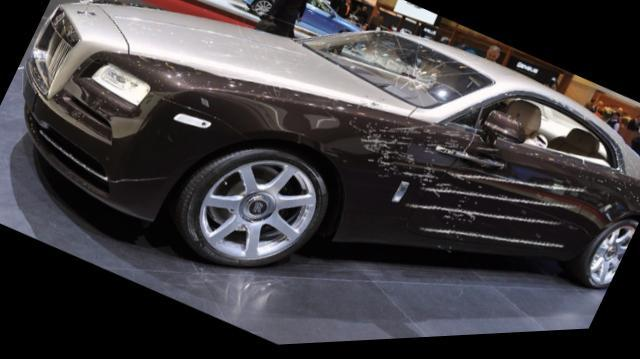glass shatter: (298, 35, 493, 114)
scratch: (364, 131, 586, 256)
